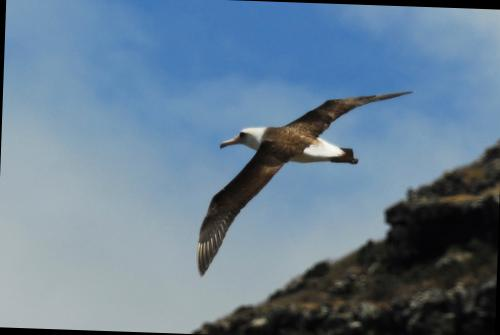bird: (167, 66, 428, 288)
